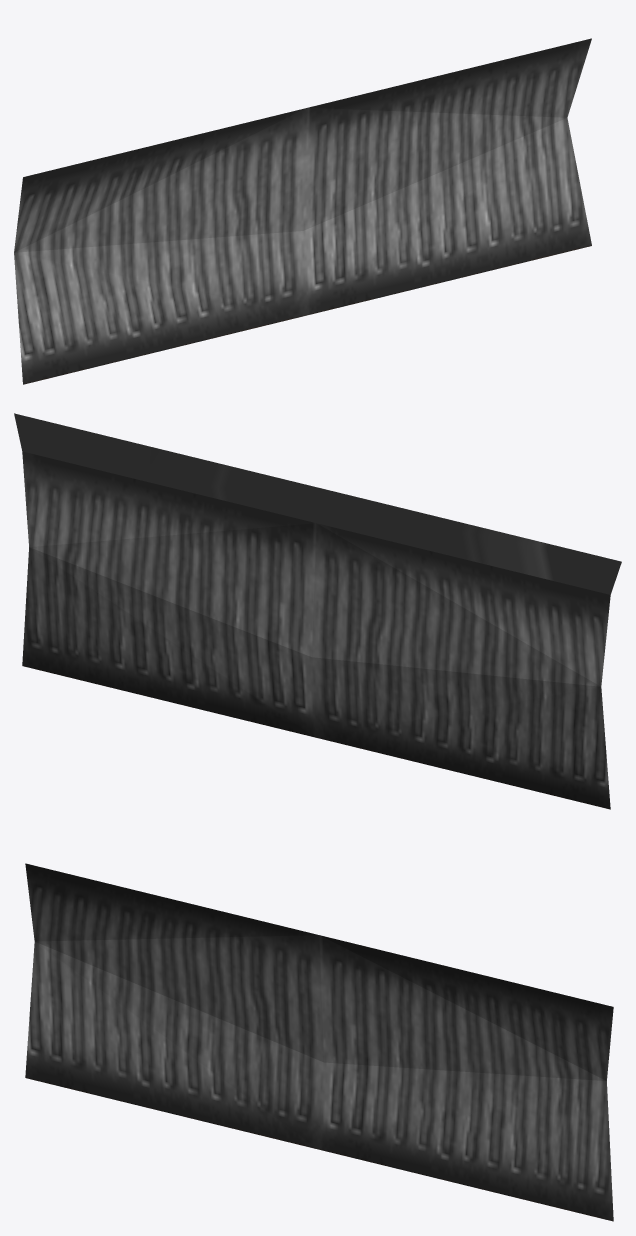
Rendered from W_A2r_xxxx [Wellblech]_807.glb.
3 renders of one model, top to bottom at view 1: azimuth 30°, elevation 25°; view 2: azimuth 150°, elevation 25°; view 3: azimuth 330°, elevation 25°, orthographic. The views are drawn at different scales.
Parts seen in each view (by area): view 1: polySurfaceShape787; view 2: polySurfaceShape787, polySurfaceShape1065; view 3: polySurfaceShape787.
Boxes of the visible parts, bbox=[...] form: polySurfaceShape787: bbox=[14, 38, 591, 384]; polySurfaceShape787: bbox=[22, 451, 610, 809]; polySurfaceShape1065: bbox=[14, 413, 621, 594]; polySurfaceShape787: bbox=[25, 863, 613, 1221].
Bounding box in the file's own units: 1.03 × 0.3891 × 0.0607.
Materials: 2 (2 with a texture image).
